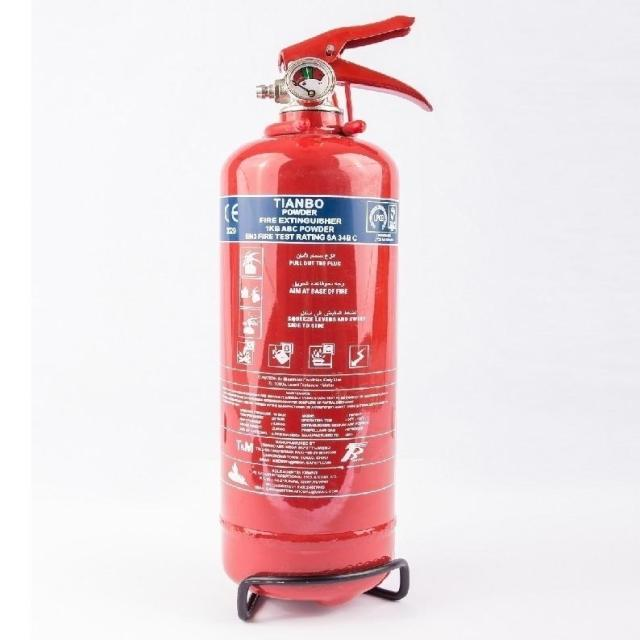fire_extinguisher: (208, 8, 438, 611)
